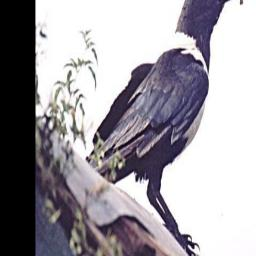Crow: (79, 0, 244, 256)
